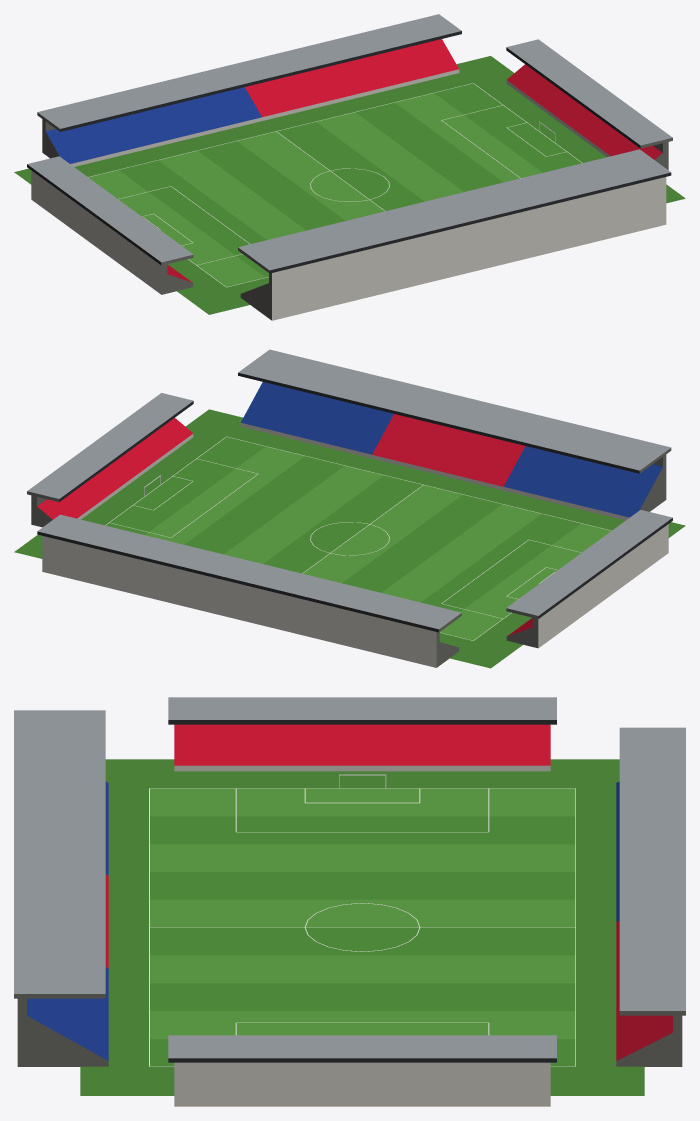
File: stade_vaduz.glb
3 renders of one model, top to bottom at view 1: azimuth 30°, elevation 25°; view 2: azimuth 150°, elevation 25°; view 3: azimuth 270°, elevation 25°, orthographic. The views are drawn at different scales.
Parts seen in each view (by area): view 1: stade_vaduz; view 2: stade_vaduz; view 3: stade_vaduz.
Boxes of the visible parts, bbox=[...] form: stade_vaduz: bbox=[14, 14, 685, 320]; stade_vaduz: bbox=[14, 349, 685, 668]; stade_vaduz: bbox=[14, 697, 685, 1106].
Bounding box in the file's own units: 136 × 13.3 × 107.
Materials: 1 (1 with a texture image).
